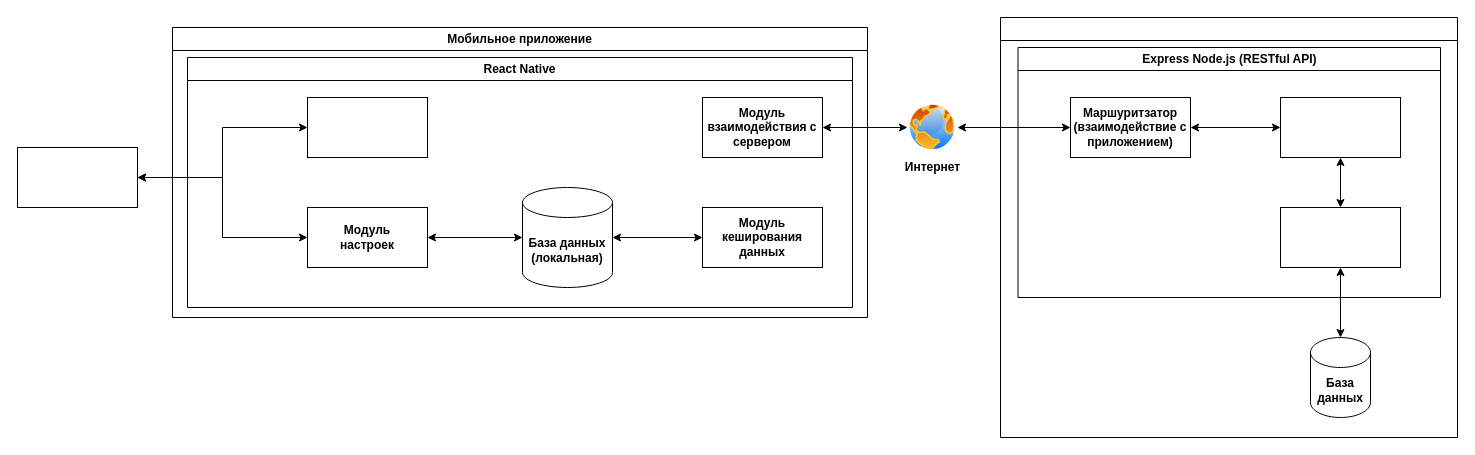
Some shapes in this 1475 by 455 pixel diagram are drawn without their labels. The box of each missing label's shape, as (x1, y1, x2, y2) in pixels:
Контроллер (Controller): (1280, 96, 1400, 158)
Модель (Model): (1280, 206, 1400, 268)
Модуль окна приложения (View): (306, 96, 428, 158)
Пользователь: (16, 146, 138, 208)
Сервер: (1000, 16, 1458, 438)
